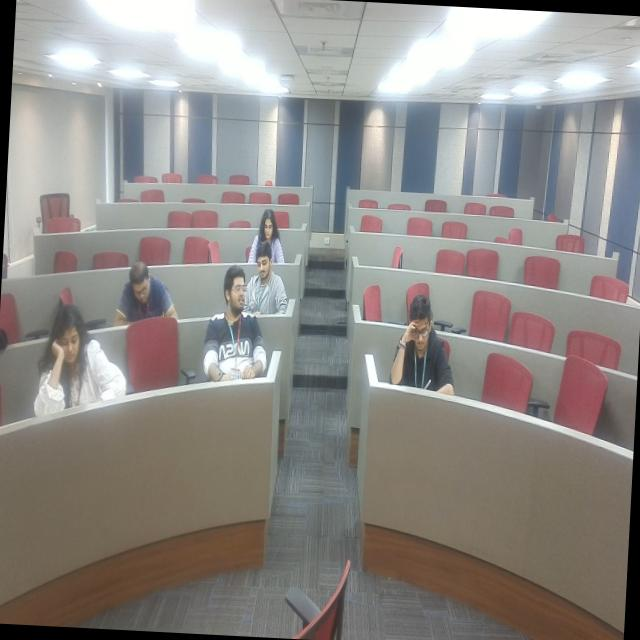non-cheating: (34, 297, 114, 453), (388, 272, 458, 442), (188, 260, 270, 397), (114, 222, 180, 330), (247, 231, 296, 314), (244, 199, 284, 261)
